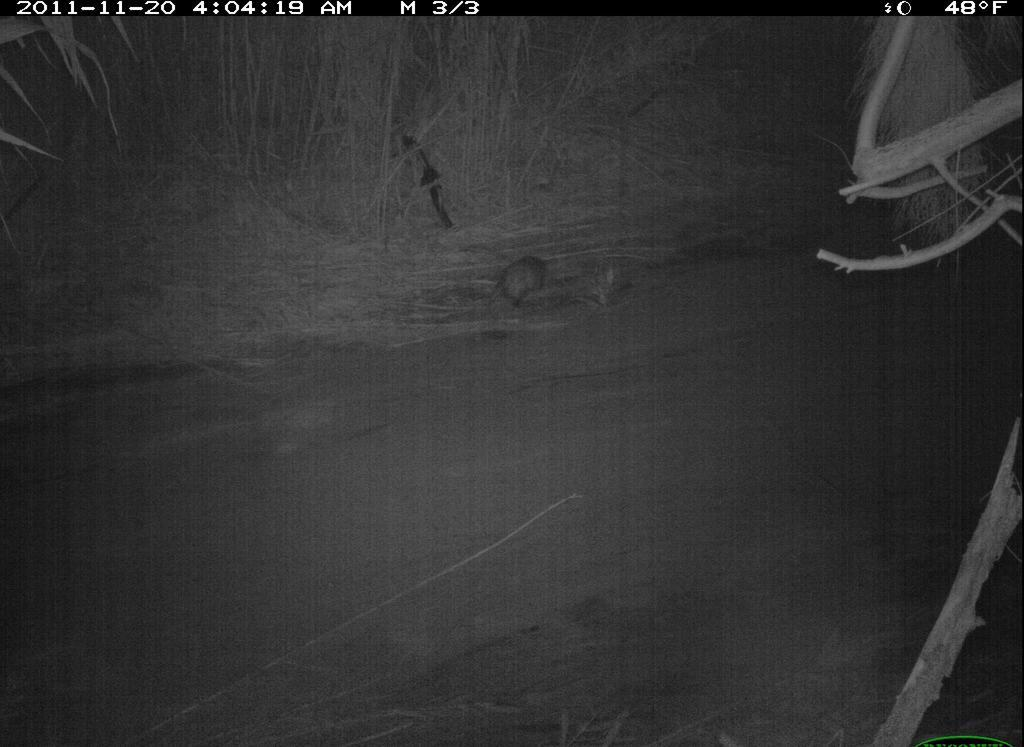opossum: (466, 241, 588, 333)
